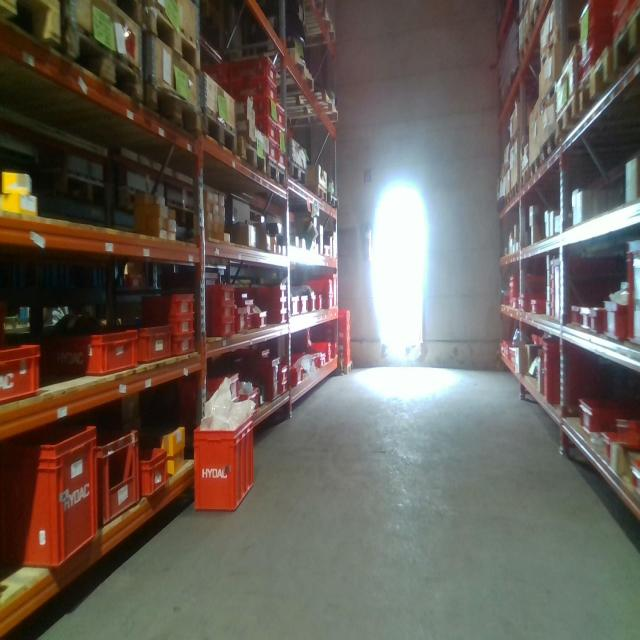pallet: (61, 20, 147, 116), (137, 5, 201, 70), (134, 85, 200, 142), (578, 41, 618, 123), (2, 3, 63, 49), (189, 106, 240, 159), (608, 5, 640, 82), (539, 23, 584, 73), (231, 133, 269, 182), (555, 96, 578, 151), (283, 184, 330, 206), (538, 81, 564, 118), (284, 155, 308, 190), (514, 32, 534, 71), (530, 0, 552, 32), (264, 168, 288, 192), (545, 133, 560, 169), (529, 155, 543, 192), (518, 168, 529, 199), (341, 362, 354, 376), (328, 198, 338, 211)
small_load_carrier: (5, 419, 101, 577), (192, 415, 258, 513), (47, 328, 138, 382), (97, 425, 140, 528), (3, 335, 47, 407), (543, 338, 584, 410), (241, 354, 280, 411), (553, 260, 586, 320), (126, 328, 168, 369), (230, 50, 279, 82), (624, 241, 638, 343), (140, 450, 167, 499), (140, 293, 196, 314), (231, 97, 278, 121), (604, 310, 636, 338), (166, 314, 196, 341), (231, 82, 279, 97), (274, 100, 287, 155), (206, 324, 235, 345), (166, 340, 195, 359), (206, 306, 236, 324), (202, 290, 237, 303), (256, 140, 273, 166), (255, 121, 278, 140), (258, 284, 288, 298), (592, 303, 602, 334), (267, 298, 288, 312), (569, 303, 582, 324), (254, 313, 268, 332), (267, 312, 287, 325), (580, 308, 591, 329), (338, 312, 350, 330), (337, 340, 351, 355), (290, 296, 300, 316), (337, 355, 350, 365), (338, 330, 351, 340)
